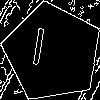I: (27, 27, 48, 75)
